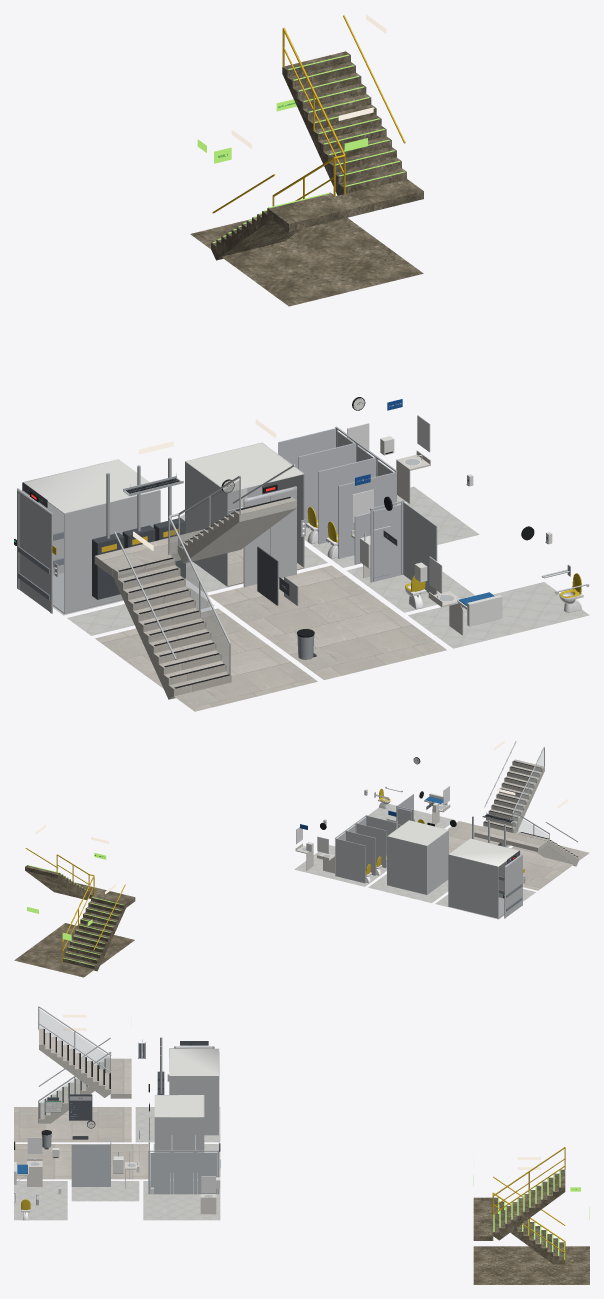
Rendered from 08_n1_nucleo_y_escaleras.glb.
3 renders of one model, top to bottom at view 1: azimuth 30°, elevation 25°; view 2: azimuth 150°, elevation 25°; view 3: azimuth 270°, elevation 25°, orthographic. The views are drawn at different scales.
Visible parts, largest first — view 1: escalera de dos tramos, escalera de dos tramos.002, piso · Vestíbulo de elevador, piso · Escalera de emergencia, cabina_montacargas, cabina_elevador_accesible, mamparas de sanitario, piso · Escalera principal, piso · Sanitario neutro, puertas_montacargas, mamparas de sanitario.001, puertas_elevador_120 (+9 smaller); view 2: escalera de dos tramos.002, escalera de dos tramos, cabina_montacargas, cabina_elevador_accesible, mamparas de sanitario, piso · Escalera de emergencia, piso · Escalera principal, puertas_montacargas, lavabo_ceramica (×2), piso · Elevador, piso · Sanitarios · mujeres, piso · Vestíbulo de elevador (+2 smaller); view 3: escalera de dos tramos, escalera de dos tramos.002, piso · Escalera de emergencia, piso · Escalera principal, mamparas de sanitario, cabina_elevador_accesible, cabina_montacargas, piso · Vestíbulo de elevador, piso · Sanitarios · mujeres, piso · Sanitario neutro, mamparas de sanitario.001, lavabo_ceramica (×2) (+3 smaller).
Boxes of the visible parts, box(x1,y1,x2,y2) form: escalera de dos tramos: box(94, 419, 296, 699); escalera de dos tramos.002: box(211, 14, 423, 260); piso · Vestíbulo de elevador: box(208, 565, 446, 679); piso · Escalera de emergencia: box(190, 217, 423, 306); cabina_montacargas: box(22, 459, 160, 613); cabina_elevador_accesible: box(185, 442, 304, 586); mamparas de sanitario: box(278, 426, 397, 558); piso · Escalera principal: box(95, 608, 317, 711); piso · Sanitario neutro: box(408, 582, 589, 648); puertas_montacargas: box(17, 488, 58, 613); mamparas de sanitario.001: box(370, 500, 437, 594); puertas_elevador_120: box(243, 484, 305, 587); escalera de dos tramos.002: box(25, 824, 135, 971); escalera de dos tramos: box(474, 740, 578, 866); cabina_montacargas: box(448, 838, 520, 918); cabina_elevador_accesible: box(387, 820, 448, 894); mamparas de sanitario: box(335, 815, 396, 883); piso · Escalera de emergencia: box(14, 923, 134, 977); piso · Escalera principal: box(511, 846, 589, 890); puertas_montacargas: box(504, 853, 525, 918); lavabo_ceramica (×2): box(295, 827, 335, 873); piso · Elevador: box(368, 874, 448, 902); piso · Sanitarios · mujeres: box(294, 845, 386, 886); piso · Vestíbulo de elevador: box(447, 821, 510, 853); escalera de dos tramos: box(38, 1006, 131, 1123); escalera de dos tramos.002: box(473, 1147, 565, 1264); piso · Escalera de emergencia: box(473, 1246, 589, 1284); piso · Escalera principal: box(14, 1107, 131, 1142); mamparas de sanitario: box(148, 1135, 219, 1194); cabina_elevador_accesible: box(154, 1095, 204, 1172); cabina_montacargas: box(169, 1048, 219, 1135); piso · Vestíbulo de elevador: box(14, 1144, 148, 1179); piso · Sanitarios · mujeres: box(143, 1181, 220, 1220); piso · Sanitario neutro: box(14, 1181, 67, 1220); mamparas de sanitario.001: box(71, 1134, 111, 1186); lavabo_ceramica (×2): box(27, 1137, 216, 1214).
Size of the model in its own units: 16.3 by 5.57 by 22.05.
Materials: 42 (9 with a texture image).
